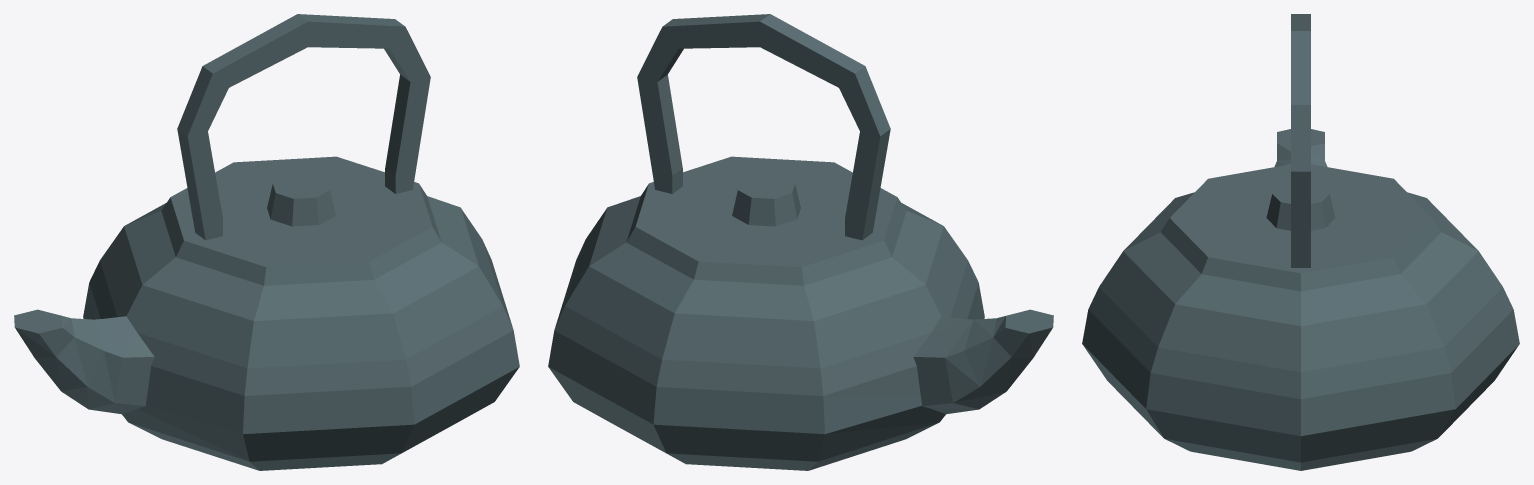
Rendered from Asian_Prop_Tea_Pot_01.FBX.
3 views of the same model, side by side, from view 1: azimuth 30°, elevation 25°; view 2: azimuth 150°, elevation 25°; view 3: azimuth 270°, elevation 25° (orthographic). The views are drawn at different scales.
Visible parts, largest first — view 1: Asian_Prop_Tea_Pot_01; view 2: Asian_Prop_Tea_Pot_01; view 3: Asian_Prop_Tea_Pot_01.
Boxes of the visible parts, bbox=[...] form: Asian_Prop_Tea_Pot_01: bbox=[14, 14, 519, 470]; Asian_Prop_Tea_Pot_01: bbox=[548, 14, 1053, 470]; Asian_Prop_Tea_Pot_01: bbox=[1082, 14, 1519, 470].
Size of the model in its own units: 274 by 210 by 222.
